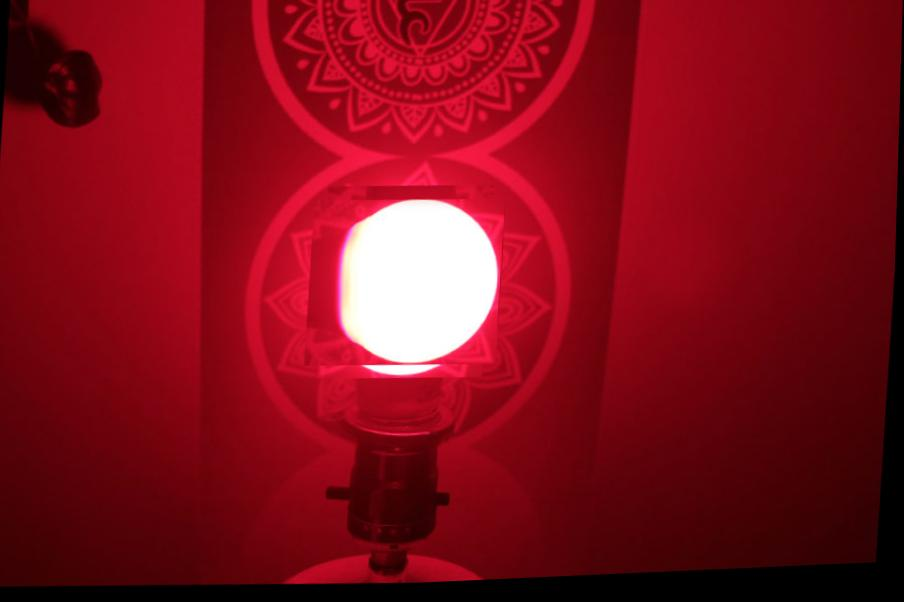TubeLight: (312, 190, 502, 381)
